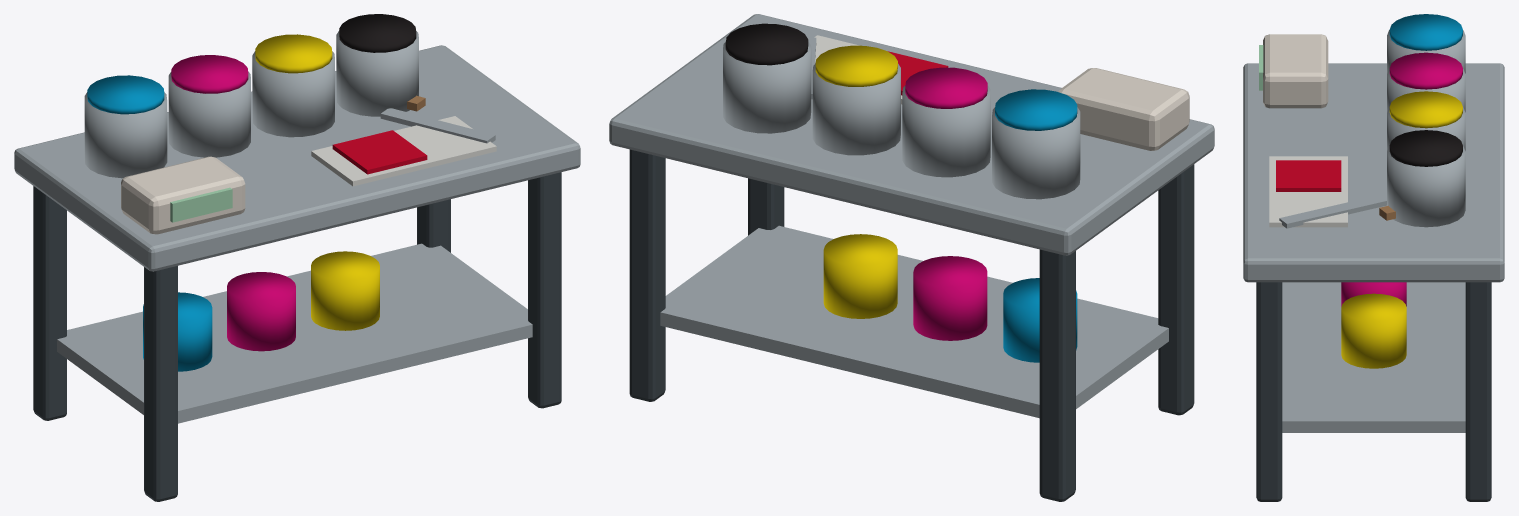
Rendered from m_inkmixer.glb.
3 views of the same model, side by side, from view 1: azimuth 30°, elevation 25°; view 2: azimuth 150°, elevation 25°; view 3: azimuth 270°, elevation 25° (orthographic). The views are drawn at different scales.
Parts seen in each view (by area): view 1: m_inkmixer; view 2: m_inkmixer; view 3: m_inkmixer.
Boxes of the visible parts, box(x1,y1,x2,y2) form: m_inkmixer: box(14, 14, 580, 501); m_inkmixer: box(609, 14, 1214, 501); m_inkmixer: box(1243, 14, 1504, 501).
Bounding box in the file's own units: 0.36 × 0.265 × 0.2.
